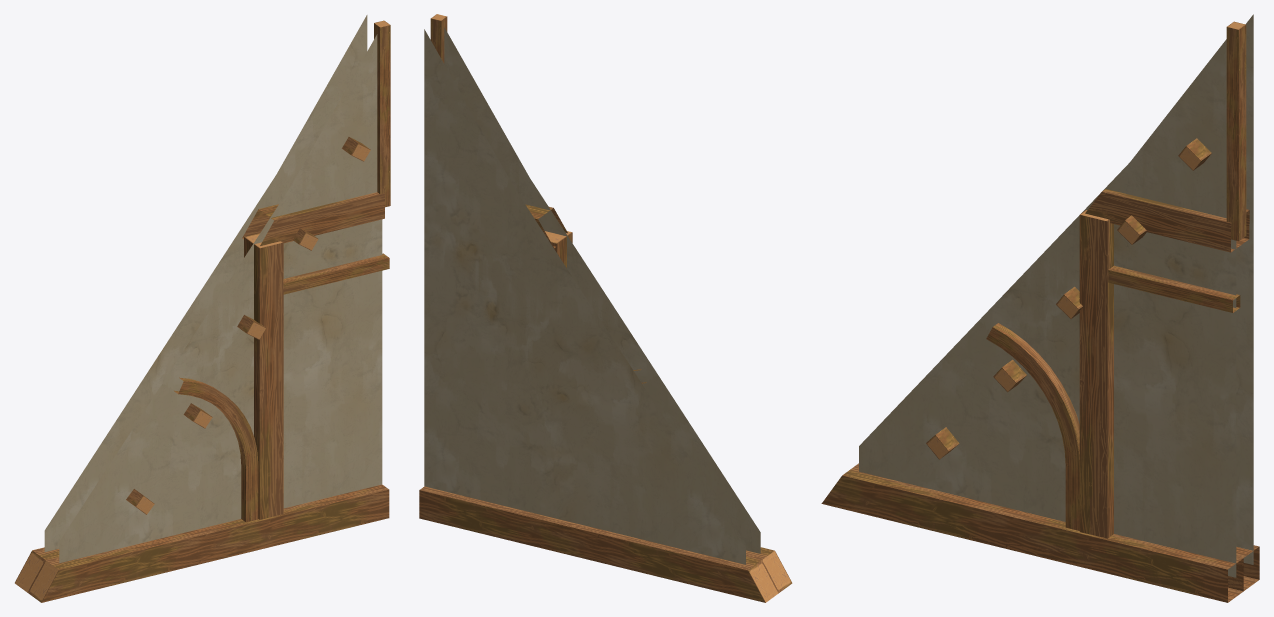
The model's file is Roof_Front_Brick6_Half_L.gltf.
3 views of the same model, side by side, from view 1: azimuth 30°, elevation 25°; view 2: azimuth 150°, elevation 25°; view 3: azimuth 330°, elevation 25° (orthographic). The views are drawn at different scales.
Parts seen in each view (by area): view 1: Roof_Front_Brick6_Half_L; view 2: Roof_Front_Brick6_Half_L; view 3: Roof_Front_Brick6_Half_L.
Boxes of the visible parts, <box> form: Roof_Front_Brick6_Half_L: <box>15,15,390,602</box>; Roof_Front_Brick6_Half_L: <box>419,14,792,602</box>; Roof_Front_Brick6_Half_L: <box>821,14,1259,602</box>.
Size of the model in its own units: 3.41 by 4.52 by 0.4895.
2 materials, 2 textured.
